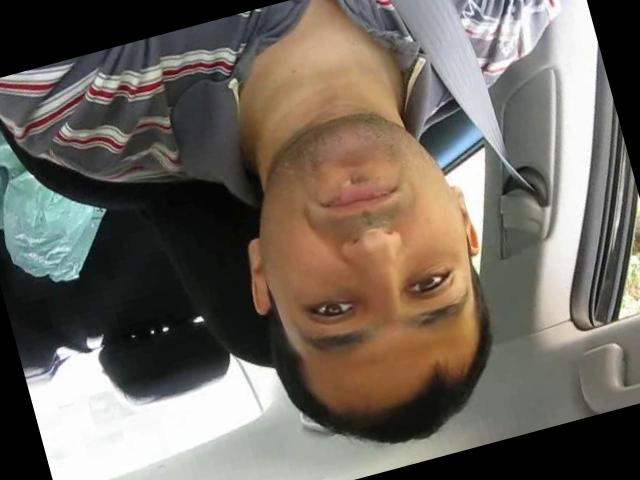eye_open: (396, 258, 464, 308), (301, 284, 366, 334)
face: (242, 90, 505, 388)
